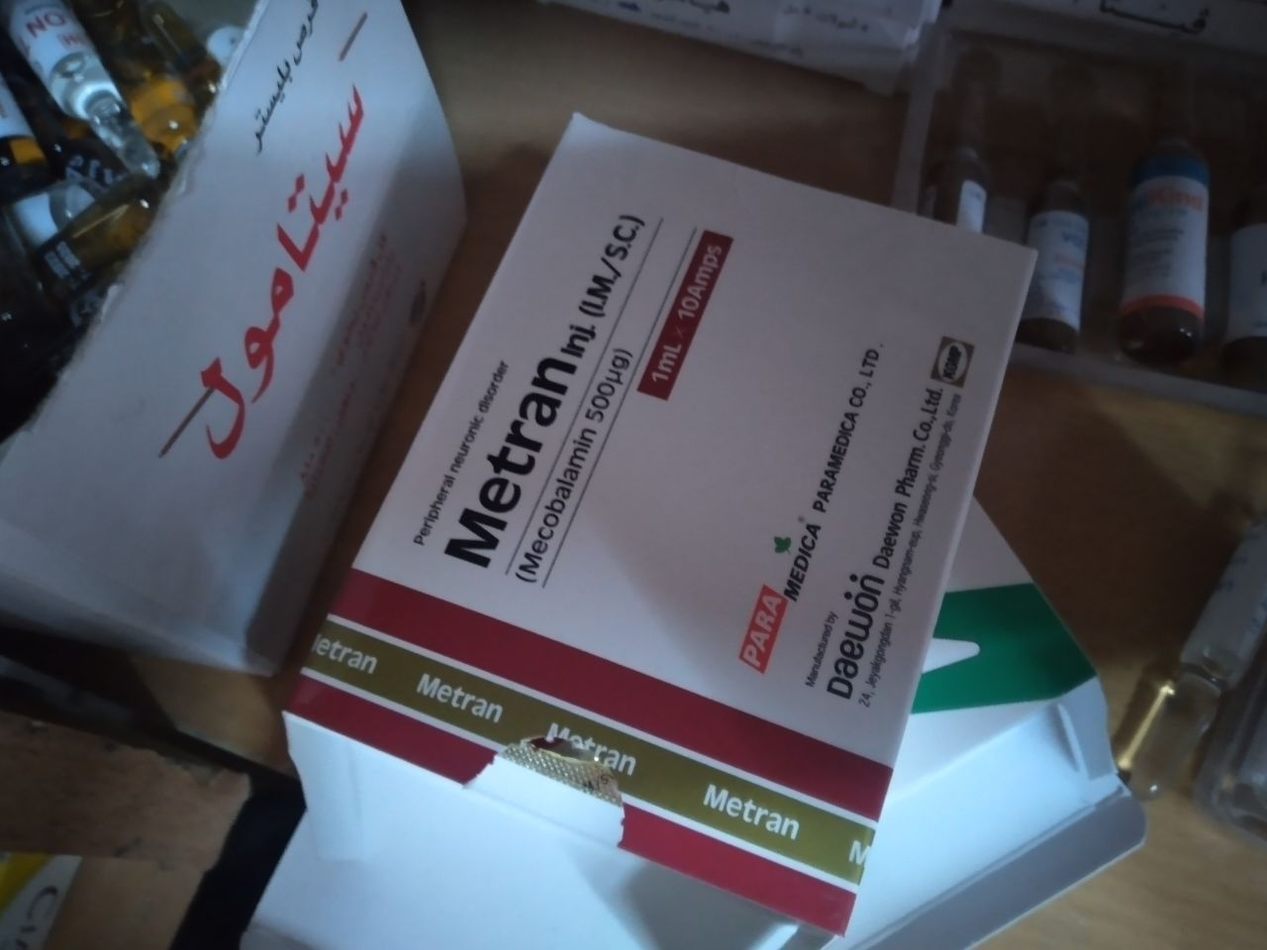Medicine: (292, 101, 1022, 871), (1119, 522, 1267, 807), (2, 0, 178, 188), (1128, 64, 1227, 366), (1032, 57, 1089, 359), (933, 42, 985, 230)
